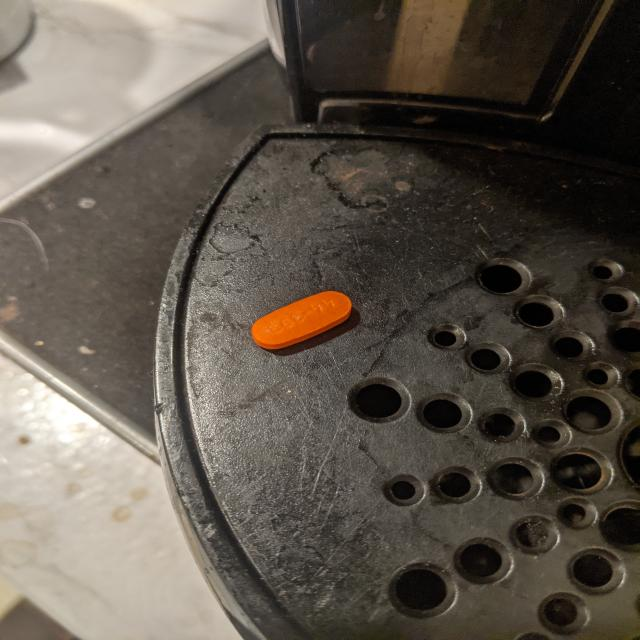non-organic waste: (250, 290, 354, 350)
